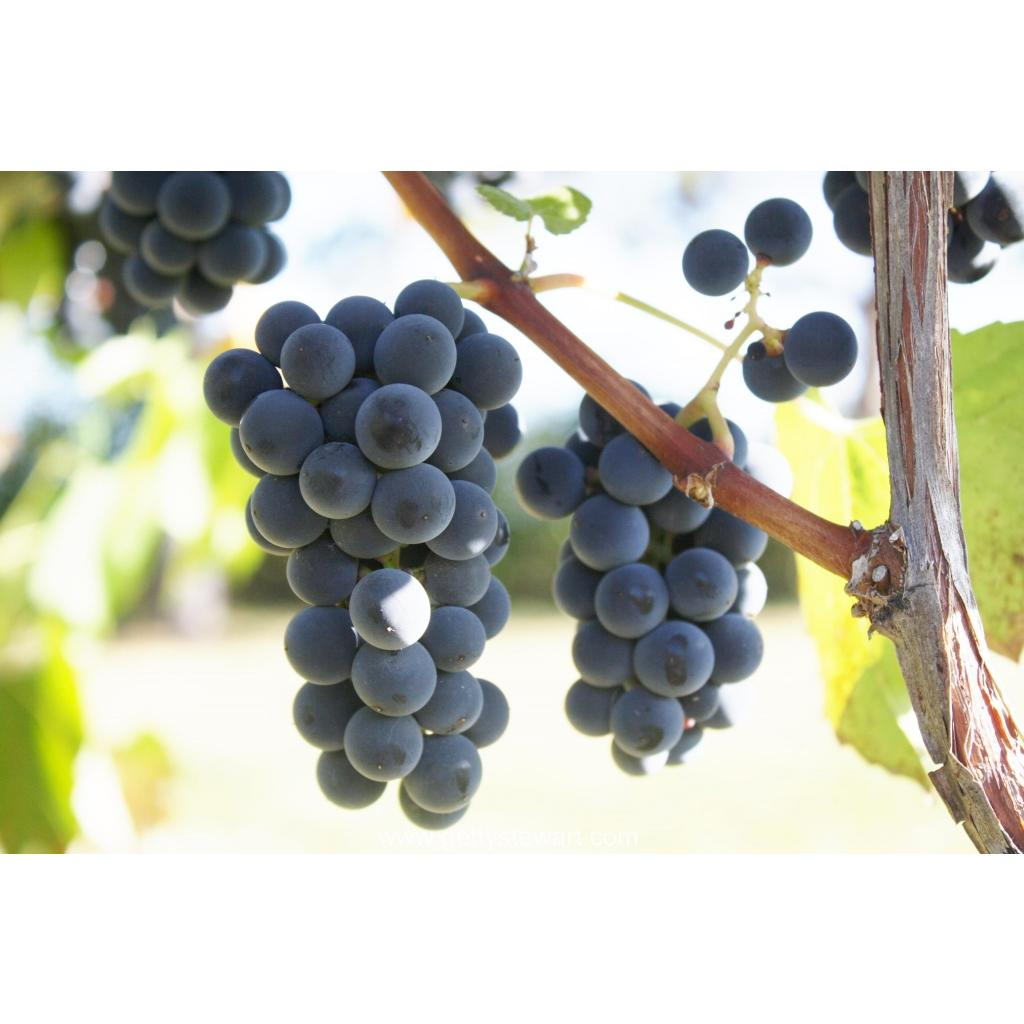grape: (204, 281, 512, 825), (516, 395, 766, 774), (98, 170, 290, 314)
